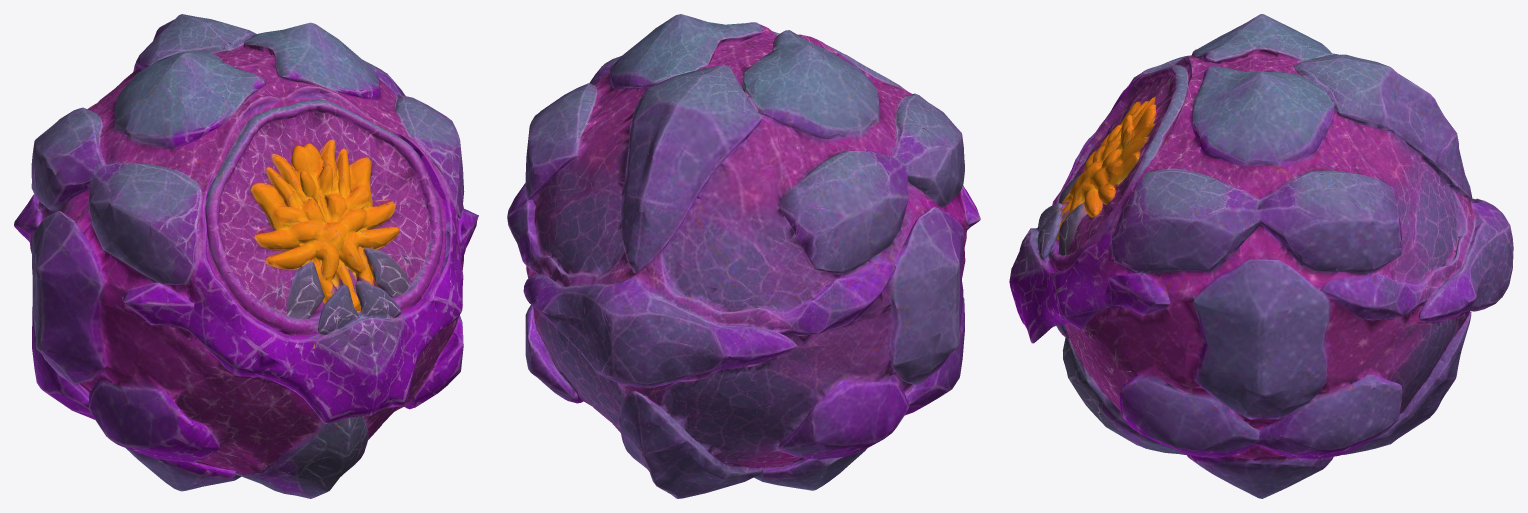
The model's file is overture.glb.
The picture shows the model from 3 angles, left to right: view 1: azimuth 30°, elevation 25°; view 2: azimuth 150°, elevation 25°; view 3: azimuth 270°, elevation 25°; orthographic projection. The views are drawn at different scales.
Parts seen in each view (by area): view 1: Mesh_0; view 2: Mesh_0; view 3: Mesh_0.
Boxes of the visible parts, box(x1,y1,x2,y2) form: Mesh_0: box(14, 14, 478, 498); Mesh_0: box(507, 14, 980, 498); Mesh_0: box(1009, 14, 1513, 498).
Bounding box in the file's own units: 1.78 × 1.77 × 1.9.
Materials: 1 (1 with a texture image).
